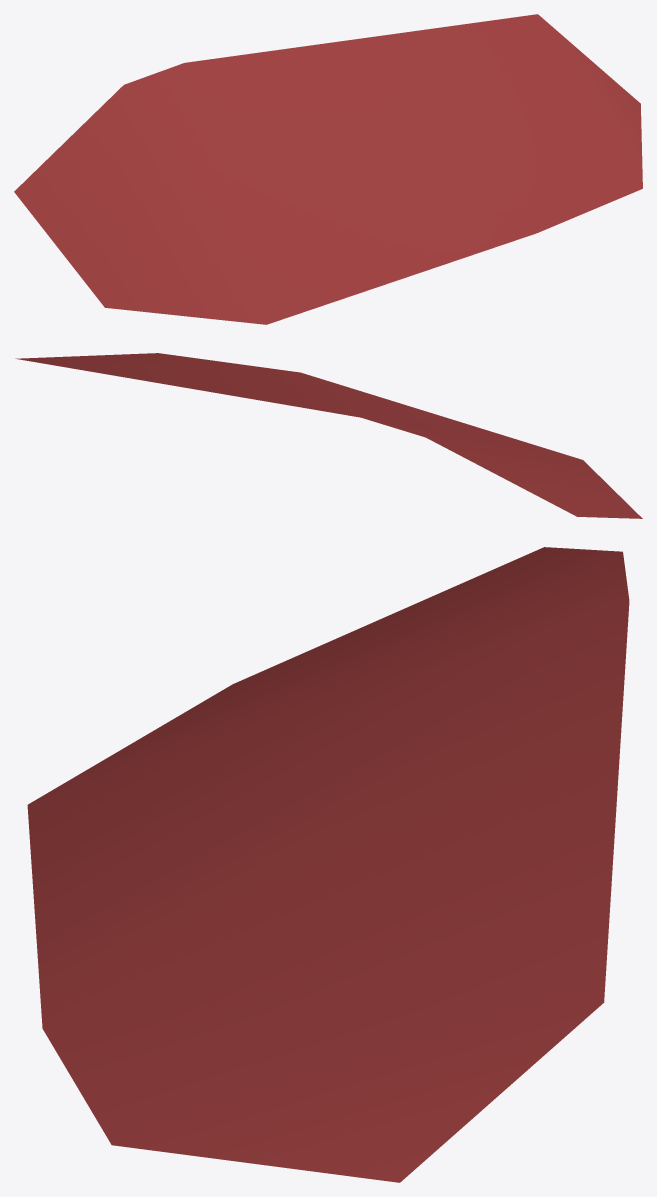
Rendered from flexor-digitorum-profundus-e2l.glb.
The picture shows the model from 3 angles, top to bottom: view 1: azimuth 30°, elevation 25°; view 2: azimuth 150°, elevation 25°; view 3: azimuth 270°, elevation 25°; orthographic projection. The views are drawn at different scales.
Visible parts, largest first — view 1: Flexor digitorum profundus.e2l; view 2: Flexor digitorum profundus.e2l; view 3: Flexor digitorum profundus.e2l.
Part boxes in pixels (bbox=[...]): Flexor digitorum profundus.e2l: bbox=[14, 14, 642, 324]; Flexor digitorum profundus.e2l: bbox=[15, 353, 642, 518]; Flexor digitorum profundus.e2l: bbox=[27, 547, 629, 1182].
Bounding box in the file's own units: 0.00383 × 0.000838 × 0.00169.
